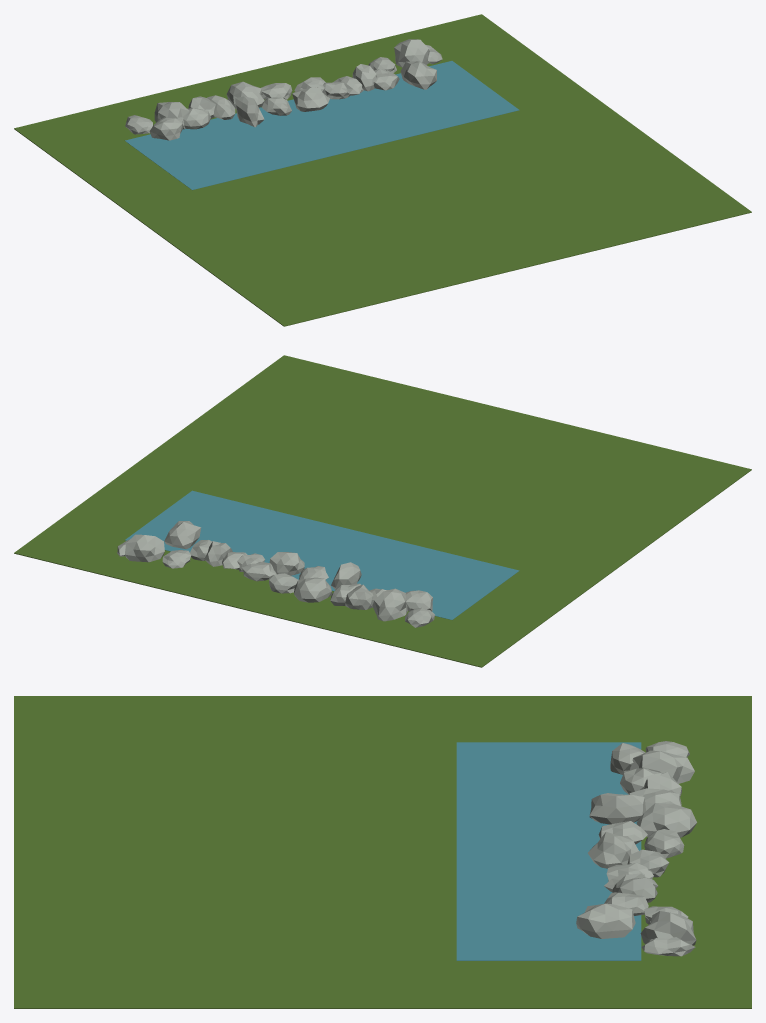
Rendered from landscape.glb.
3 renders of one model, top to bottom at view 1: azimuth 30°, elevation 25°; view 2: azimuth 150°, elevation 25°; view 3: azimuth 270°, elevation 25°, orthographic. The views are drawn at different scales.
Parts seen in each view (by area): view 1: landscape__grass, landscape__glass, landscape__stone; view 2: landscape__grass, landscape__glass, landscape__stone; view 3: landscape__grass, landscape__glass, landscape__stone.
Part boxes in pixels (left/top/right/bottom): landscape__grass: left=14, top=14, right=751, bottom=326; landscape__glass: left=125, top=61, right=519, bottom=190; landscape__stone: left=125, top=39, right=442, bottom=140; landscape__grass: left=14, top=355, right=751, bottom=667; landscape__glass: left=125, top=490, right=519, bottom=619; landscape__stone: left=117, top=521, right=434, bottom=627; landscape__grass: left=14, top=696, right=751, bottom=1008; landscape__glass: left=456, top=742, right=641, bottom=960; landscape__stone: left=576, top=741, right=696, bottom=956.
Size of the model in its own units: 200 by 12.41 by 200.
